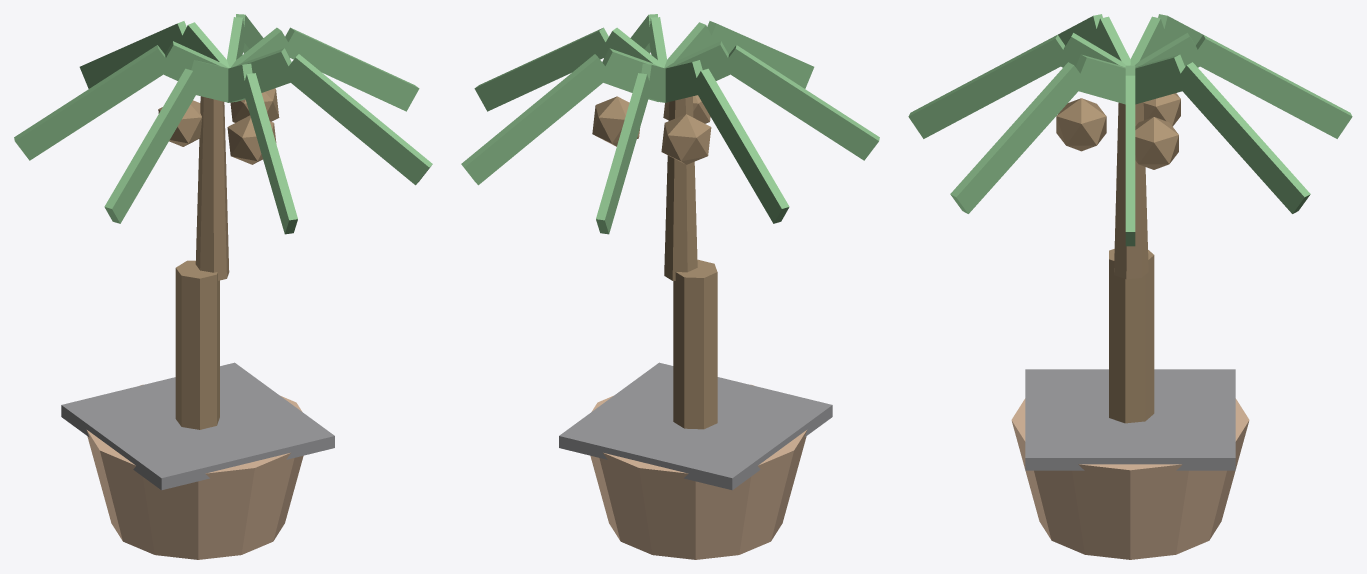
The model's file is 18-Casas_decor_maceta_palmera.glb.
3 views of the same model, side by side, from view 1: azimuth 30°, elevation 25°; view 2: azimuth 150°, elevation 25°; view 3: azimuth 270°, elevation 25° (orthographic). The views are drawn at different scales.
Visible parts, largest first — view 1: SM_MacPal_Tierra, SM_MacPal_Maceta, SM_MacPal_Tronco, SM_MacPal_TroncoT, SM_MacPal_Fr_6_La, SM_MacPal_Fr_3_La, SM_MacPal_Fr_0_La, SM_MacPal_Fr_4_La, SM_MacPal_Fr_5_La, SM_MacPal_Fr_2_La, SM_MacPal_Coco.002, SM_MacPal_Fr_6_Pe (+8 smaller); view 2: SM_MacPal_Tierra, SM_MacPal_Maceta, SM_MacPal_Tronco, SM_MacPal_Fr_4_La, SM_MacPal_Fr_1_La, SM_MacPal_TroncoT, SM_MacPal_Fr_3_La, SM_MacPal_Fr_0_La, SM_MacPal_Fr_2_La, SM_MacPal_Fr_5_La, SM_MacPal_Coco.001, SM_MacPal_Fr_1_Pe (+7 smaller); view 3: SM_MacPal_Tierra, SM_MacPal_Maceta, SM_MacPal_Tronco, SM_MacPal_Fr_5_La, SM_MacPal_Fr_2_La, SM_MacPal_Fr_1_La, SM_MacPal_Fr_6_La, SM_MacPal_TroncoT, SM_MacPal_Coco.002, SM_MacPal_Coco, SM_MacPal_Fr_0_La, SM_MacPal_Fr_1_Pe (+8 smaller).
Part boxes in pixels (left/top/right/bottom): SM_MacPal_Tierra: left=61, top=362, right=334, bottom=490; SM_MacPal_Maceta: left=87, top=384, right=303, bottom=559; SM_MacPal_Tronco: left=175, top=260, right=219, bottom=429; SM_MacPal_TroncoT: left=195, top=96, right=229, bottom=280; SM_MacPal_Fr_6_La: left=282, top=54, right=432, bottom=185; SM_MacPal_Fr_3_La: left=14, top=45, right=165, bottom=160; SM_MacPal_Fr_0_La: left=285, top=27, right=419, bottom=111; SM_MacPal_Fr_4_La: left=104, top=68, right=198, bottom=223; SM_MacPal_Fr_5_La: left=244, top=73, right=297, bottom=234; SM_MacPal_Fr_2_La: left=79, top=21, right=186, bottom=88; SM_MacPal_Coco.002: left=227, top=115, right=276, bottom=164; SM_MacPal_Fr_6_Pe: left=234, top=48, right=291, bottom=101; SM_MacPal_Tierra: left=559, top=362, right=832, bottom=490; SM_MacPal_Maceta: left=590, top=384, right=806, bottom=559; SM_MacPal_Tronco: left=673, top=259, right=717, bottom=429; SM_MacPal_Fr_4_La: left=721, top=45, right=879, bottom=160; SM_MacPal_Fr_1_La: left=461, top=54, right=611, bottom=185; SM_MacPal_TroncoT: left=664, top=96, right=697, bottom=280; SM_MacPal_Fr_3_La: left=692, top=68, right=789, bottom=223; SM_MacPal_Fr_0_La: left=474, top=27, right=608, bottom=111; SM_MacPal_Fr_2_La: left=596, top=73, right=649, bottom=234; SM_MacPal_Fr_5_La: left=707, top=21, right=814, bottom=88; SM_MacPal_Coco.001: left=661, top=114, right=711, bottom=164; SM_MacPal_Fr_1_Pe: left=598, top=48, right=659, bottom=101; SM_MacPal_Tierra: left=1025, top=369, right=1235, bottom=470; SM_MacPal_Maceta: left=1011, top=398, right=1249, bottom=559; SM_MacPal_Tronco: left=1109, top=249, right=1154, bottom=423; SM_MacPal_Fr_5_La: left=908, top=34, right=1070, bottom=138; SM_MacPal_Fr_2_La: left=1190, top=34, right=1352, bottom=138; SM_MacPal_Fr_1_La: left=1180, top=62, right=1310, bottom=213; SM_MacPal_Fr_6_La: left=950, top=62, right=1080, bottom=213; SM_MacPal_TroncoT: left=1114, top=102, right=1148, bottom=279; SM_MacPal_Coco.002: left=1056, top=98, right=1106, bottom=151; SM_MacPal_Coco: left=1135, top=117, right=1178, bottom=169; SM_MacPal_Fr_0_La: left=1125, top=75, right=1135, bottom=246; SM_MacPal_Fr_1_Pe: left=1135, top=54, right=1186, bottom=104.
Bounding box in the file's own units: 0.6185 × 0.7839 × 0.6344.
